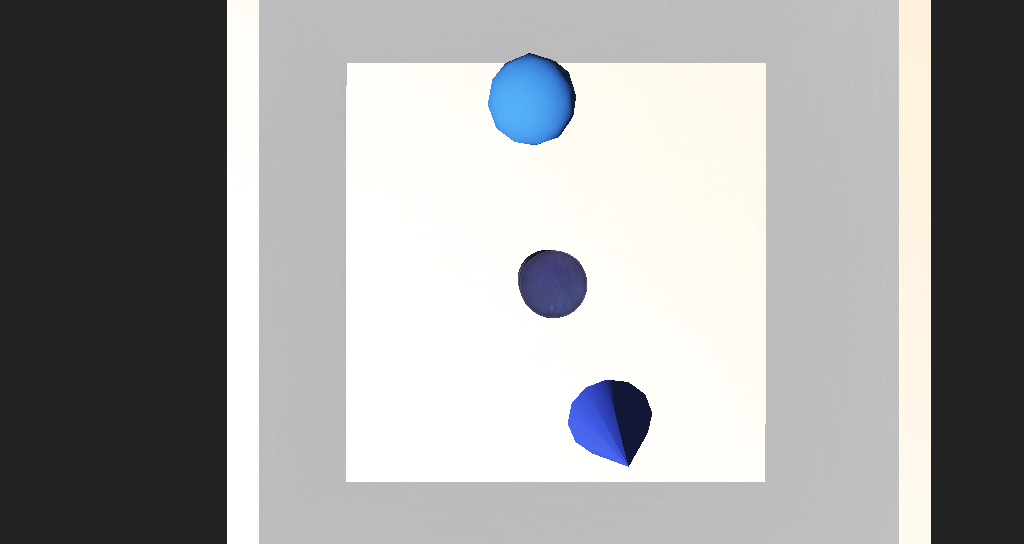cone: (472, 253, 525, 291)
cylinder: (515, 320, 589, 387)
sphere: (451, 157, 519, 205)
